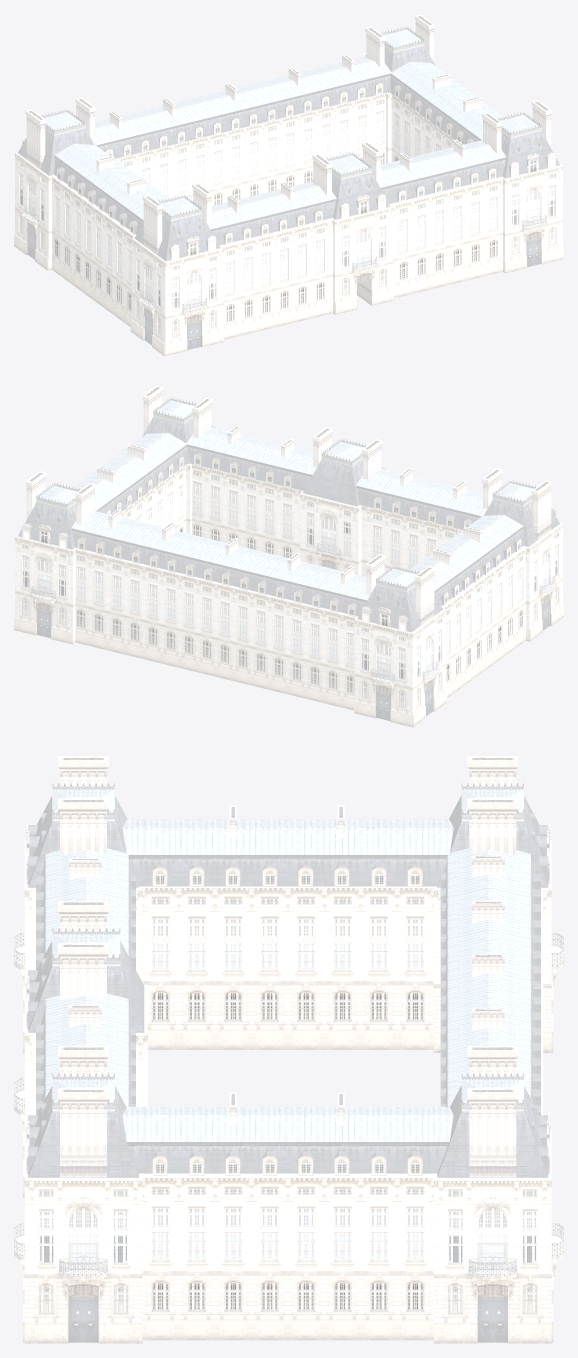
The model's file is parispolice.FBX.
3 renders of one model, top to bottom at view 1: azimuth 30°, elevation 25°; view 2: azimuth 150°, elevation 25°; view 3: azimuth 270°, elevation 25°, orthographic. The views are drawn at different scales.
Parts seen in each view (by area): view 1: parispolice; view 2: parispolice; view 3: parispolice.
Boxes of the visible parts, left/top/right/bottom form: parispolice: left=14, top=14, right=563, bottom=356; parispolice: left=14, top=385, right=563, bottom=727; parispolice: left=14, top=756, right=563, bottom=1343.
Bounding box in the file's own units: 9525 × 3161 × 6346.
1 material, 1 textured.
